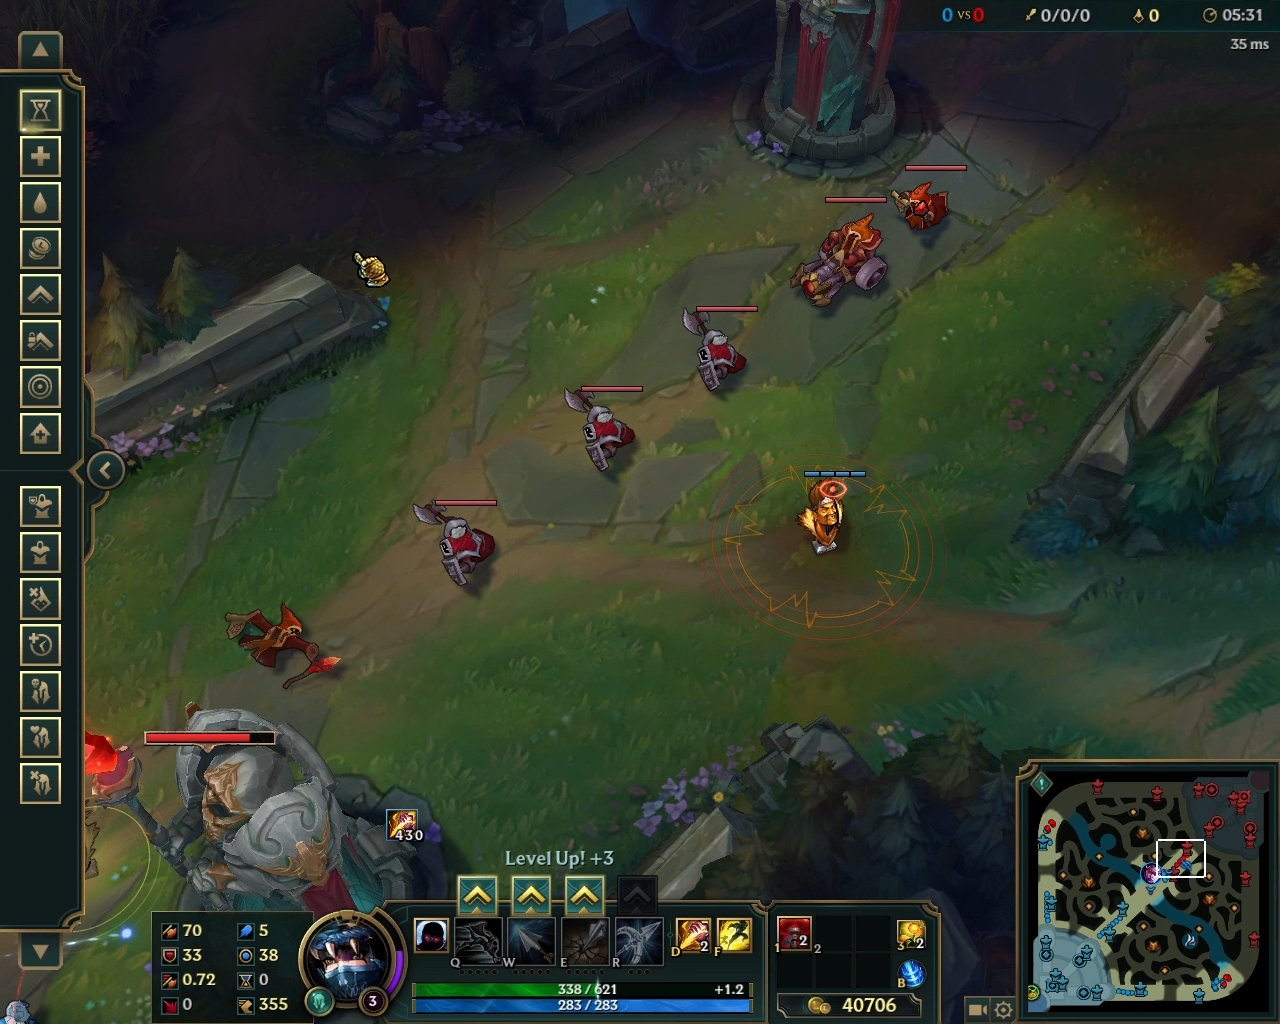EnemyMinion: (786, 197, 887, 317), (409, 501, 497, 590), (670, 305, 759, 394), (557, 385, 643, 475), (883, 165, 968, 235)
Tower: (84, 700, 453, 894)
